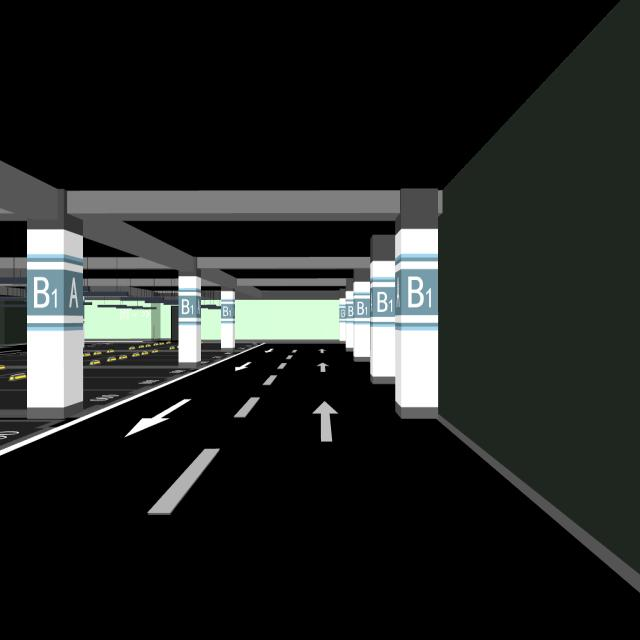simu_pillar: (28, 228, 82, 419), (395, 228, 438, 419), (179, 267, 201, 367), (221, 289, 235, 348)
